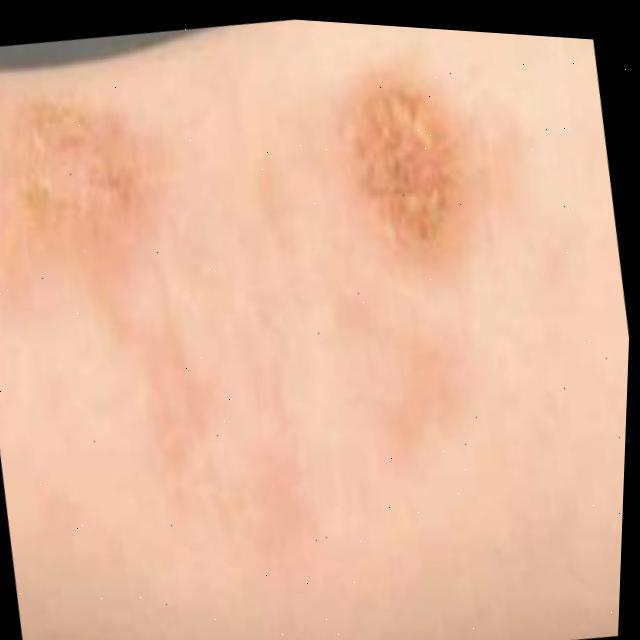Eczema: (0, 105, 165, 271), (345, 64, 458, 240)
